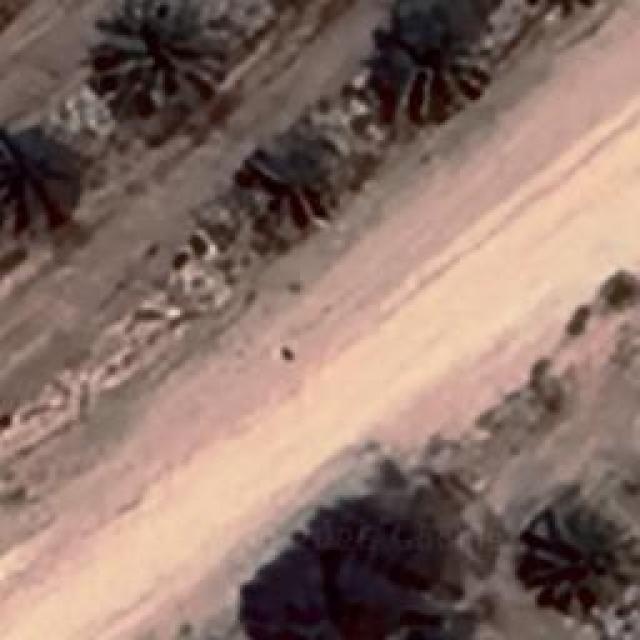PalmTree: (95, 0, 223, 100), (375, 8, 485, 118), (520, 508, 638, 602), (0, 131, 85, 239), (251, 132, 344, 222)
